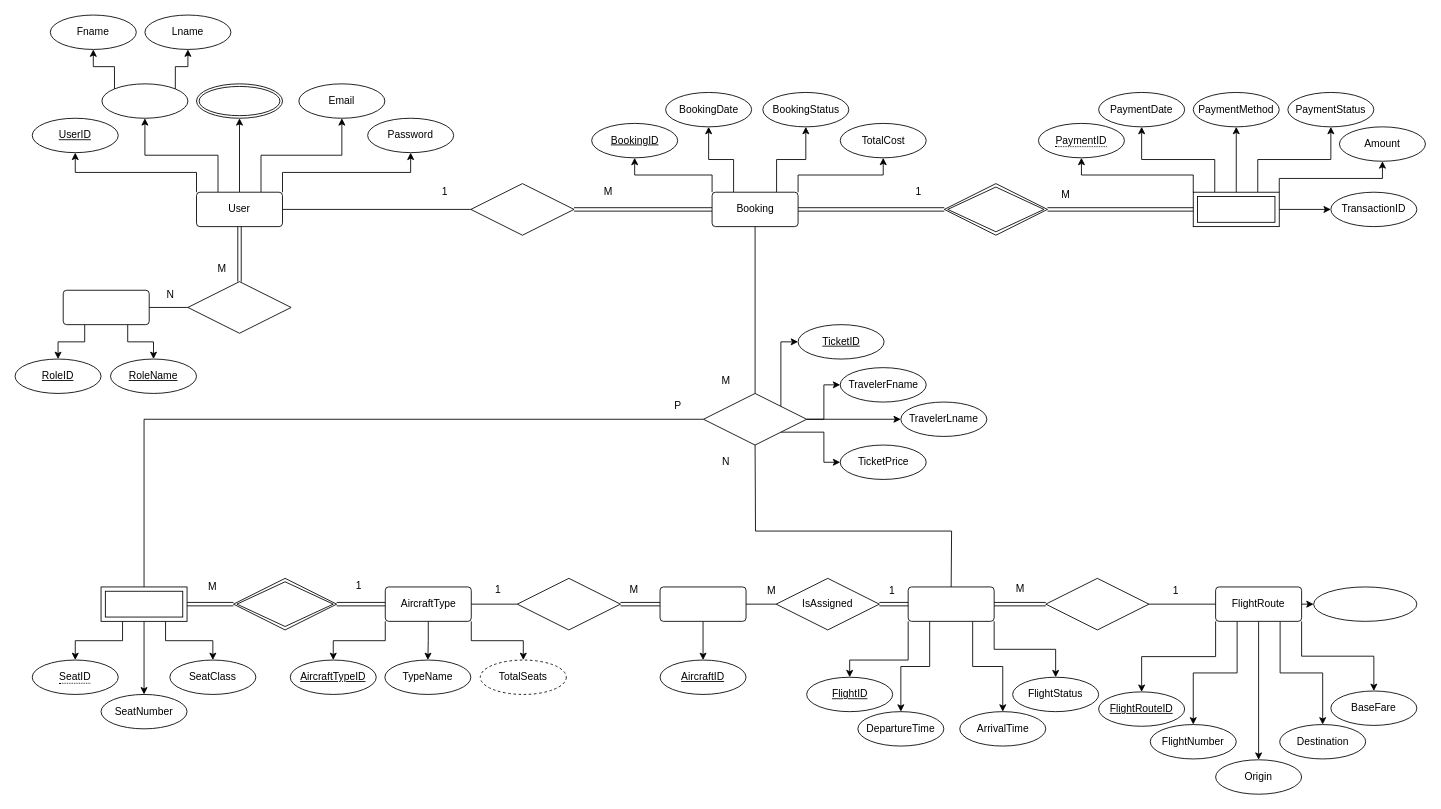
Some shapes in this 1441 by 809 pixel diagram are drawn without their labels. Each missing label, with the box of its shape:
Aircraft: (659, 586, 746, 621)
BookSeatOn: (703, 393, 807, 445)
DefineSeats: (233, 577, 337, 630)
EstimatedDuration: (1313, 586, 1417, 621)
Flight: (907, 586, 994, 621)
HasPayment: (943, 183, 1047, 235)
HasRole: (187, 281, 291, 333)
IsTypeOf: (516, 577, 620, 630)
Makes: (470, 183, 574, 235)
Name: (101, 83, 188, 118)
Payment: (1192, 191, 1279, 227)
Phone: (196, 83, 283, 118)
Role: (62, 289, 149, 325)
Schedules: (1045, 577, 1149, 630)
Seat: (100, 586, 187, 621)
